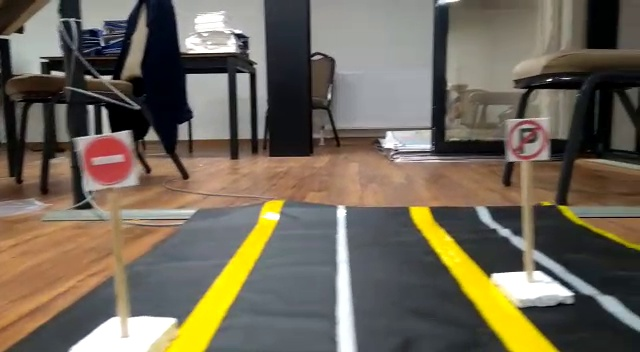girisi_olmayan_yol: (83, 134, 135, 189)
park_yapilmaz: (508, 119, 548, 158)
